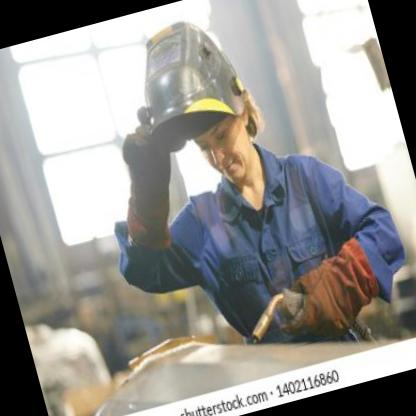Gloves: (259, 231, 390, 350), (99, 112, 194, 258)
